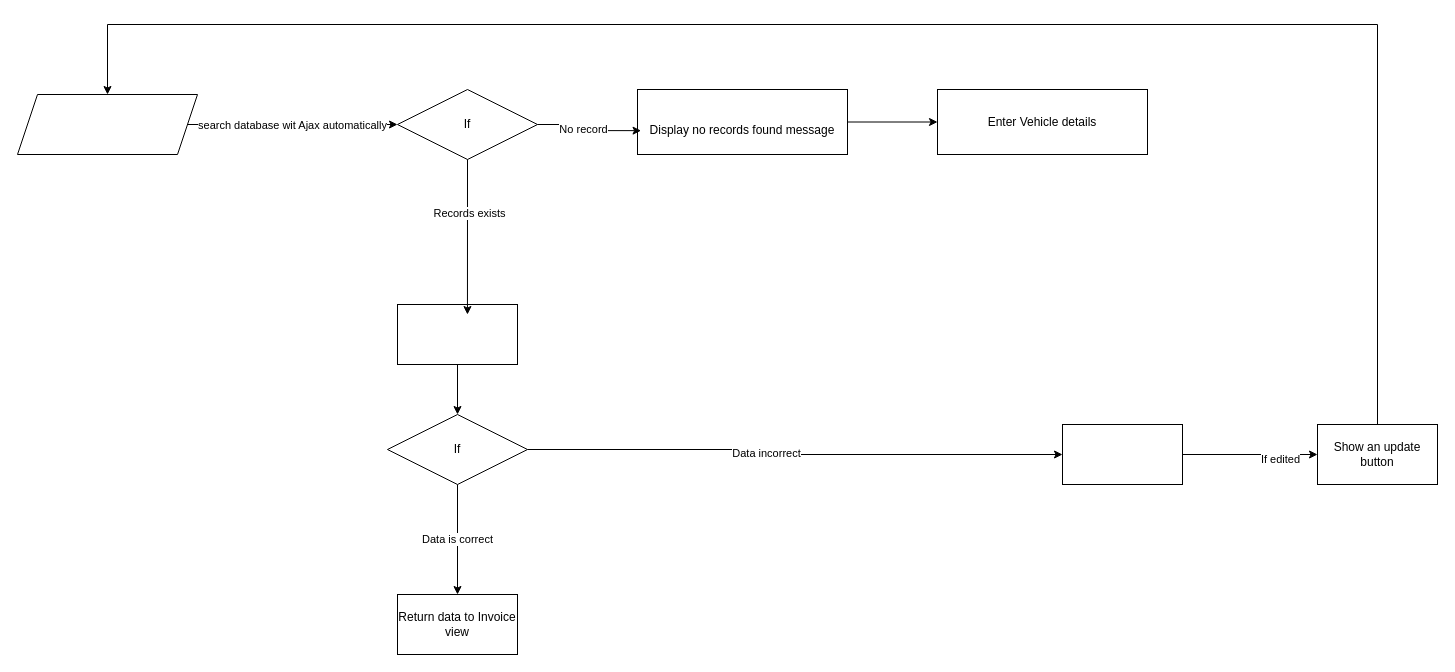
Image size: 1455x672. Some labels were removed from this diagram. Here are the shapes that lost their labels. From the top down, the box of each, then its label:
(16, 94, 198, 154): User enter vehilce no
(396, 304, 518, 364): Fill the fields
(1062, 424, 1182, 484): Allow to edit and update
